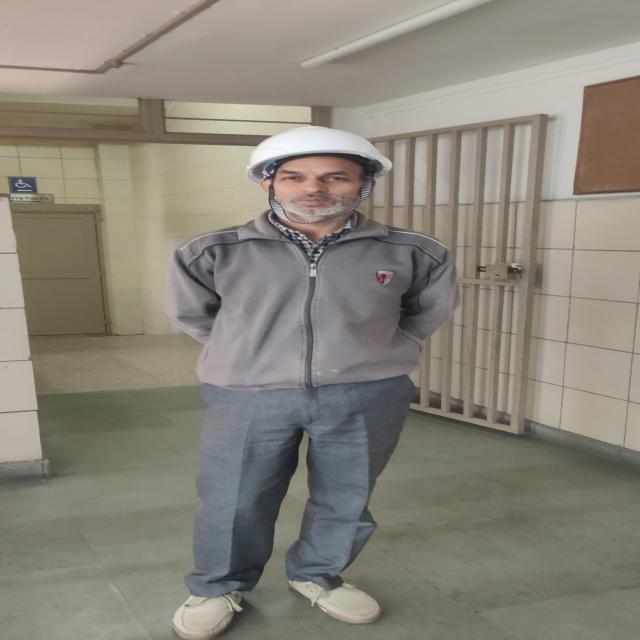no jacket: (175, 126, 452, 640)
